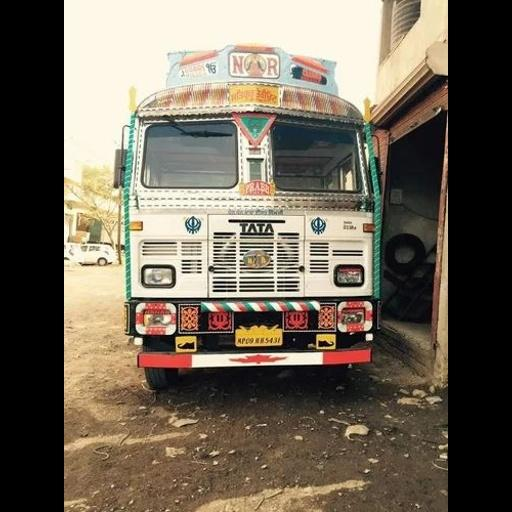car: (80, 243, 115, 265), (64, 242, 83, 262)
truck: (112, 45, 384, 392)
